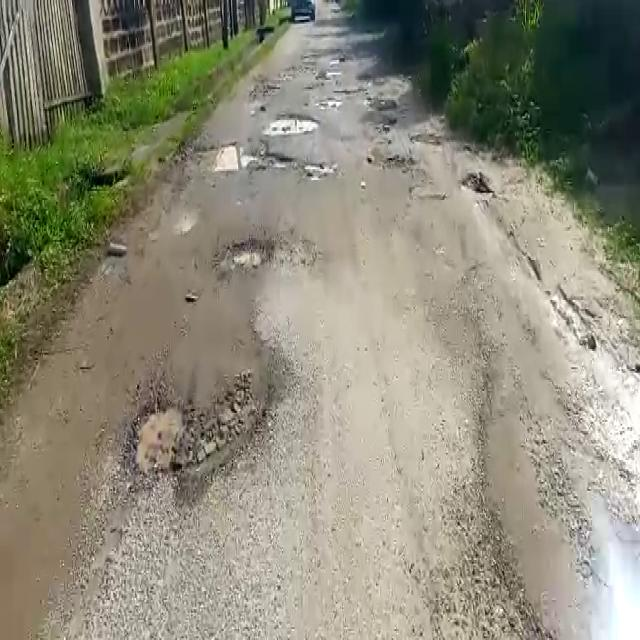Pothole: (118, 369, 283, 494), (192, 141, 302, 170), (212, 236, 276, 272), (262, 113, 319, 139), (300, 160, 334, 178)
